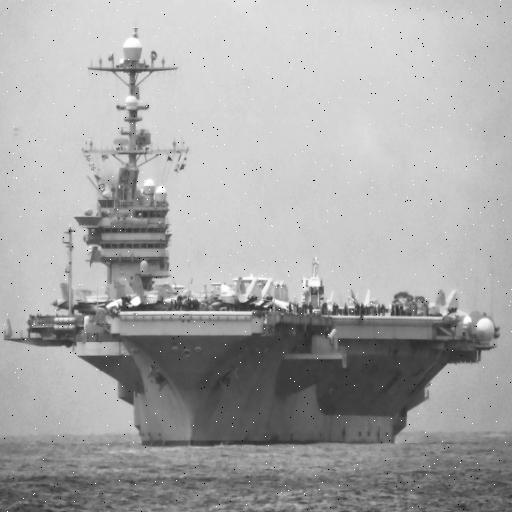Portanaves: (1, 12, 505, 448)
